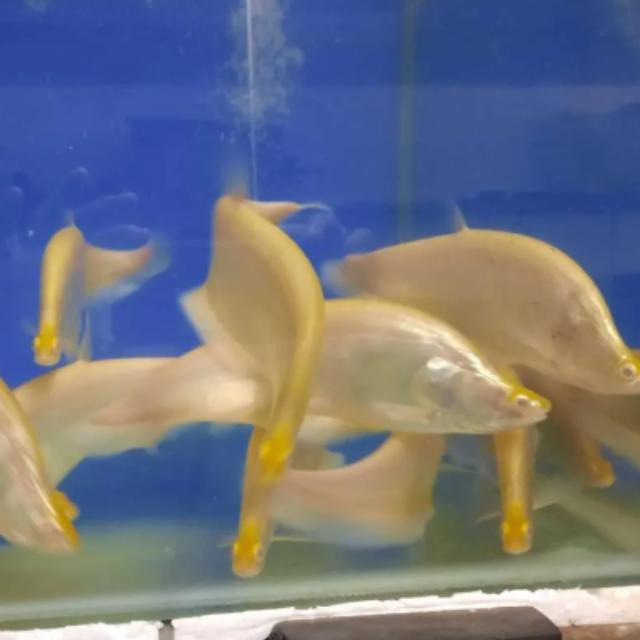Mulut: (30, 338, 66, 369)
Sirip Punggung: (202, 138, 266, 214), (428, 188, 492, 242), (46, 191, 100, 249), (500, 394, 566, 432)
